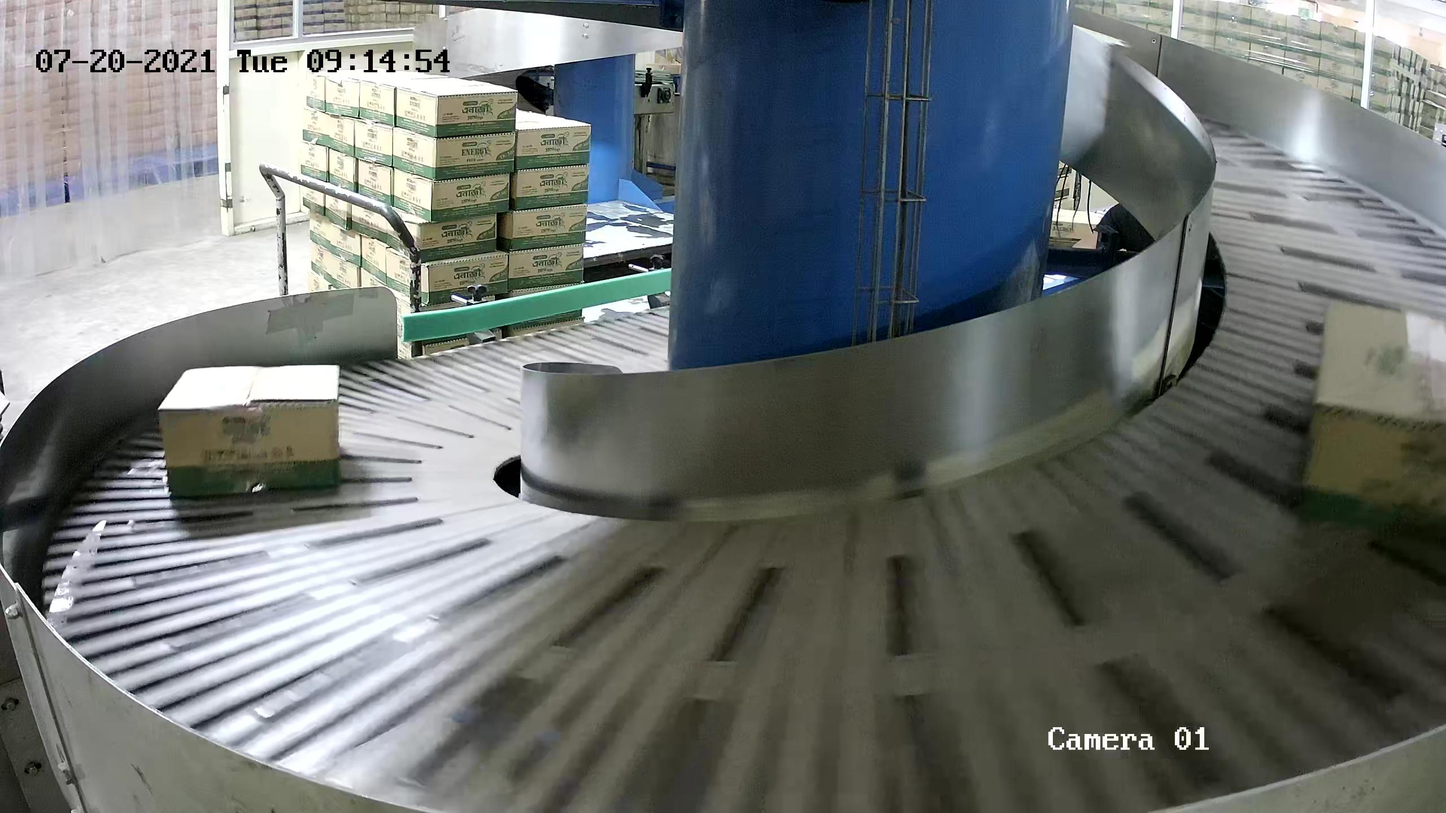Box: (1295, 299, 1446, 544), (156, 363, 342, 500)
